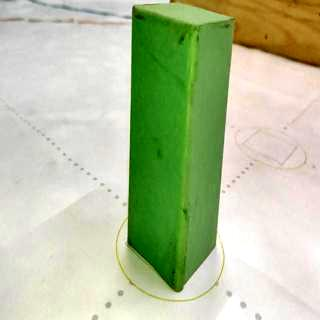greenbox: (131, 2, 223, 288)
